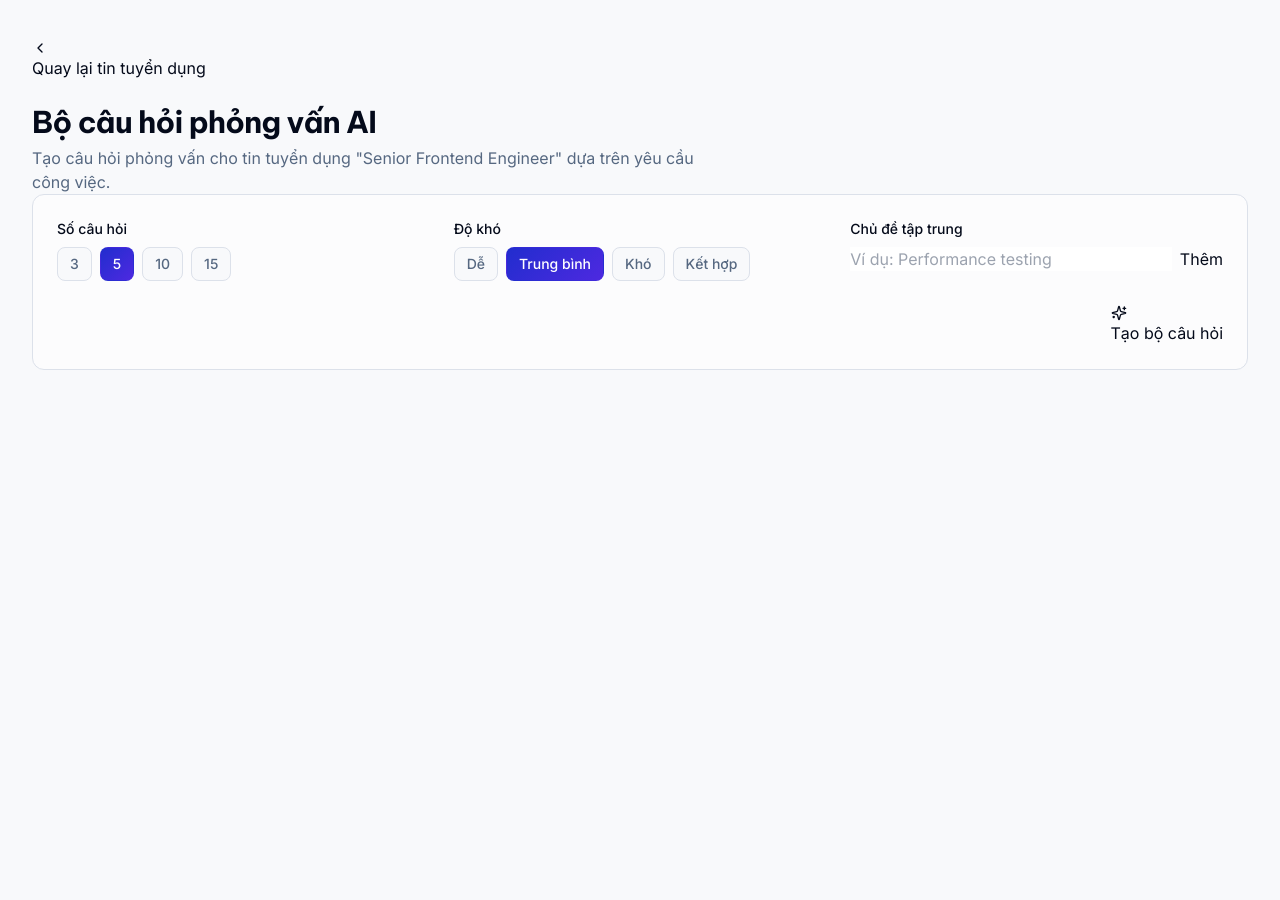
InterviewGeneratorPage › renders generated questions on success
Step 1. Click the button "Tạo bộ câu hỏi" → point(1167, 325), box [1110,305,1223,345]
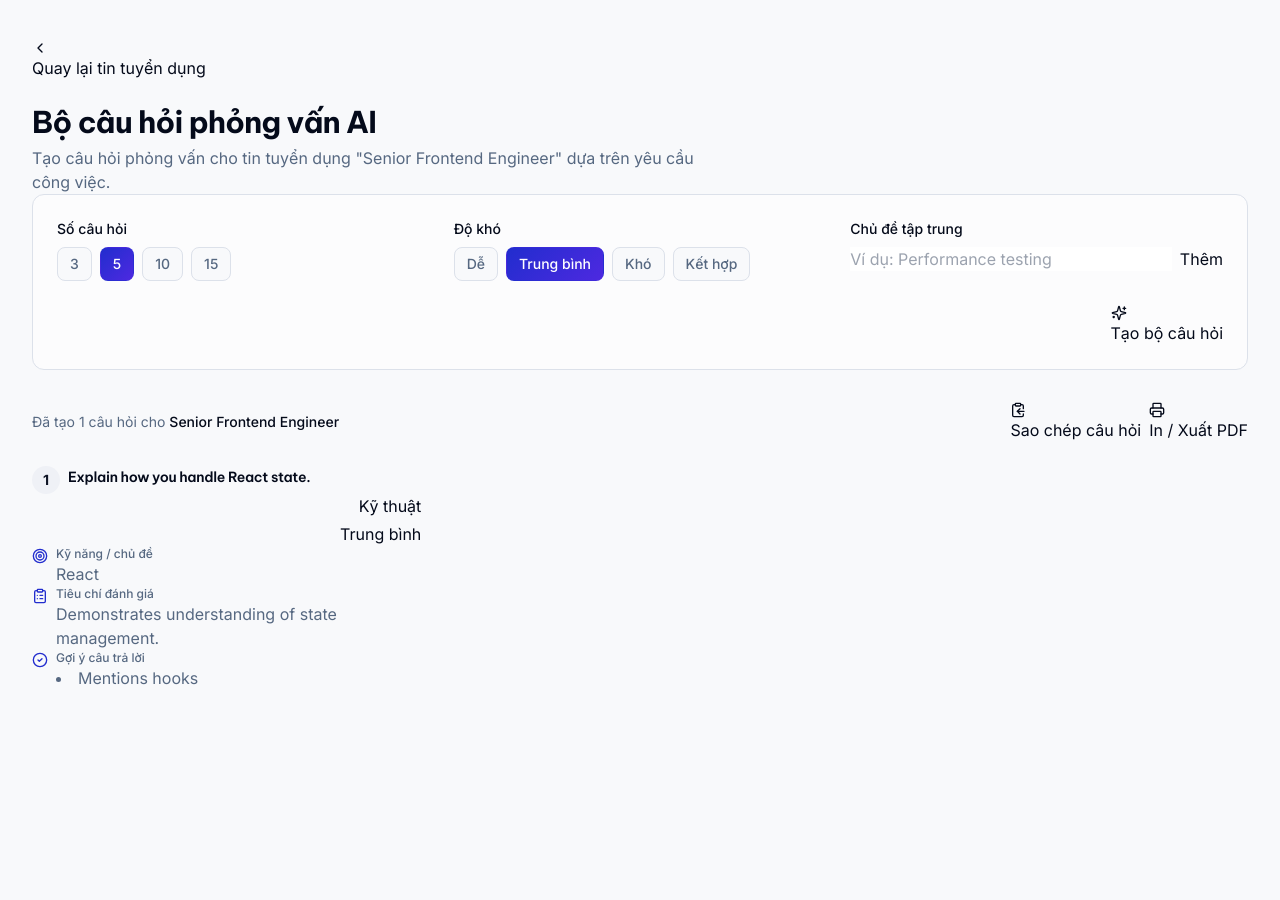
Expected: the heading "Explain how you handle React state." is shown, [68,466,310,489]
Expected: the text "Kỹ thuật" is shown, [359,494,421,518]
Expected: the list item "Mentions hooks" is shown, [78,668,198,688]
